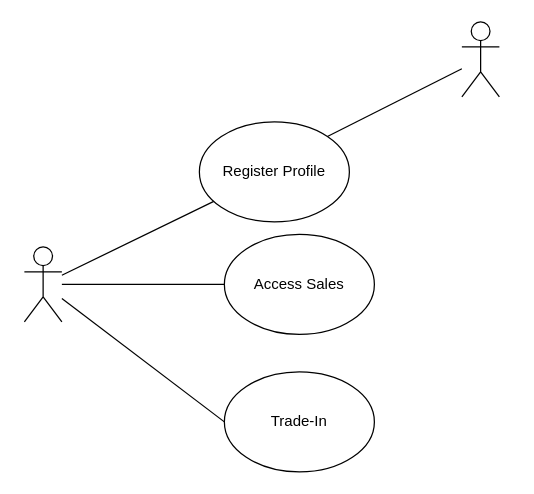
Some shapes in this 534 by 494 pixel diagram are drawn without their labels. The centre of each missing label's shape, as x and y in pixels:
"Admin" belongs at [42,284].
"Customer" belongs at [480,59].
